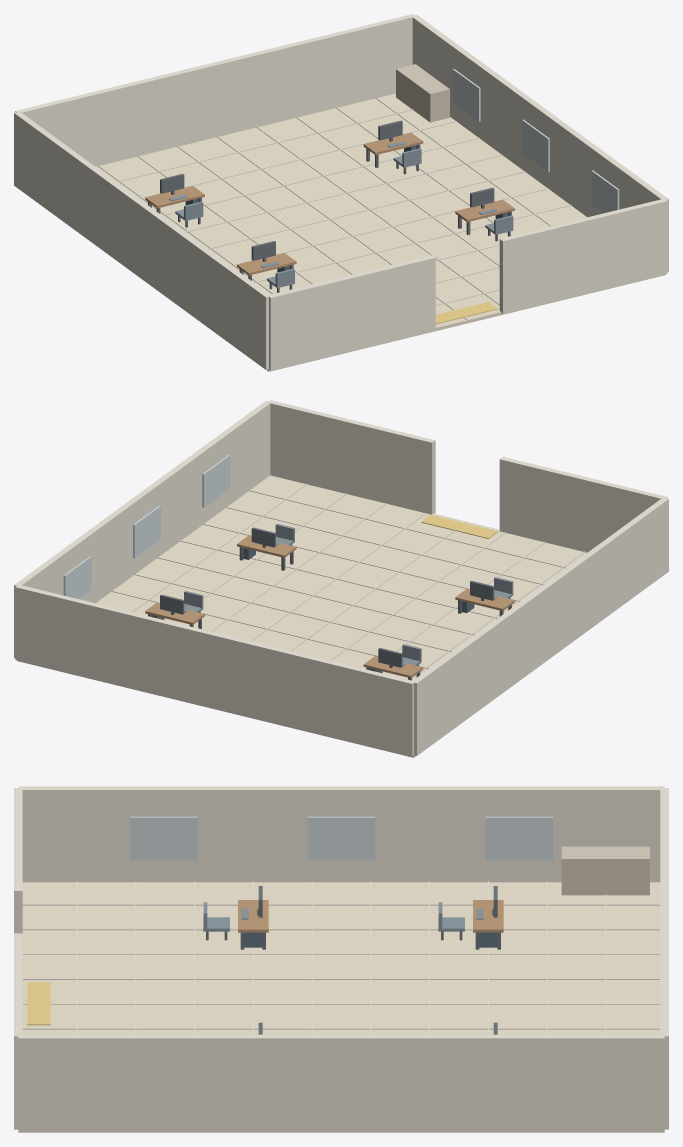
The model's file is office.glb.
3 renders of one model, top to bottom at view 1: azimuth 30°, elevation 25°; view 2: azimuth 150°, elevation 25°; view 3: azimuth 270°, elevation 25°, orthographic. The views are drawn at different scales.
Visible parts, largest first — view 1: room_office__E8DDC2, room_office__E3D2A8, room_office__E6DCC6, room_office__B4C7CD, room_office__8D5A34, room_office__B9A78A, room_office__2B3238, room_office__4A5A66, room_office__E7B54A; view 2: room_office__E8DDC2, room_office__E3D2A8, room_office__E6DCC6, room_office__B4C7CD, room_office__8D5A34, room_office__2B3238, room_office__4A5A66, room_office__E7B54A; view 3: room_office__E8DDC2, room_office__E3D2A8, room_office__B4C7CD, room_office__E6DCC6, room_office__B9A78A, room_office__8D5A34, room_office__4A5A66, room_office__E7B54A, room_office__2B3238, room_office__22303A.
Part boxes in pixels (x1,y1,x2,y2): room_office__E8DDC2: (14, 14, 668, 370); room_office__E3D2A8: (96, 93, 665, 371); room_office__E6DCC6: (98, 97, 571, 319); room_office__B4C7CD: (452, 69, 619, 213); room_office__8D5A34: (145, 132, 514, 275); room_office__B9A78A: (396, 64, 449, 122); room_office__2B3238: (148, 120, 511, 292); room_office__4A5A66: (169, 141, 513, 288); room_office__E7B54A: (435, 302, 497, 324); room_office__E8DDC2: (14, 400, 668, 756); room_office__E3D2A8: (17, 475, 586, 757); room_office__E6DCC6: (111, 483, 584, 678); room_office__B4C7CD: (63, 455, 230, 599); room_office__8D5A34: (145, 535, 514, 678); room_office__2B3238: (148, 527, 511, 680); room_office__4A5A66: (184, 523, 513, 666); room_office__E7B54A: (421, 515, 497, 538); room_office__E8DDC2: (14, 786, 668, 1131); room_office__E3D2A8: (18, 882, 664, 1132); room_office__B4C7CD: (130, 816, 552, 860); room_office__E6DCC6: (22, 881, 660, 1034); room_office__B9A78A: (561, 846, 649, 895); room_office__8D5A34: (238, 900, 503, 932); room_office__4A5A66: (203, 902, 483, 931); room_office__E7B54A: (27, 982, 50, 1025); room_office__2B3238: (206, 886, 500, 1034); room_office__22303A: (244, 932, 497, 947).
Size of the model in its own units: 20.3 by 3.62 by 22.3.
